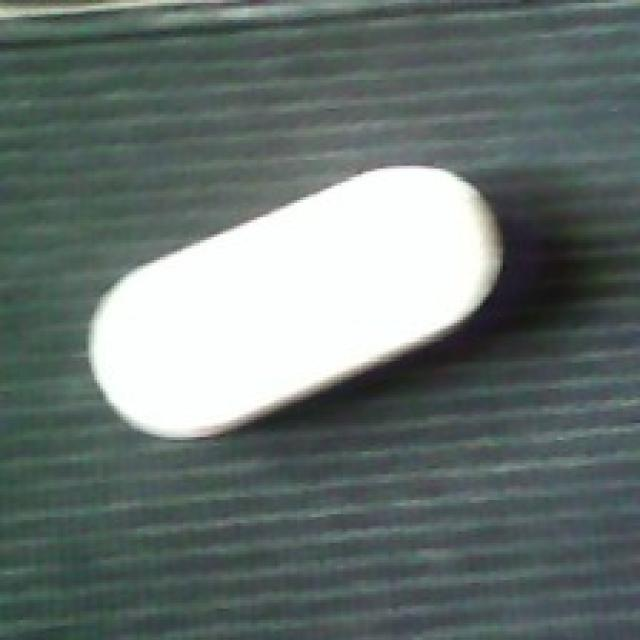no-defect: (83, 161, 503, 443)
